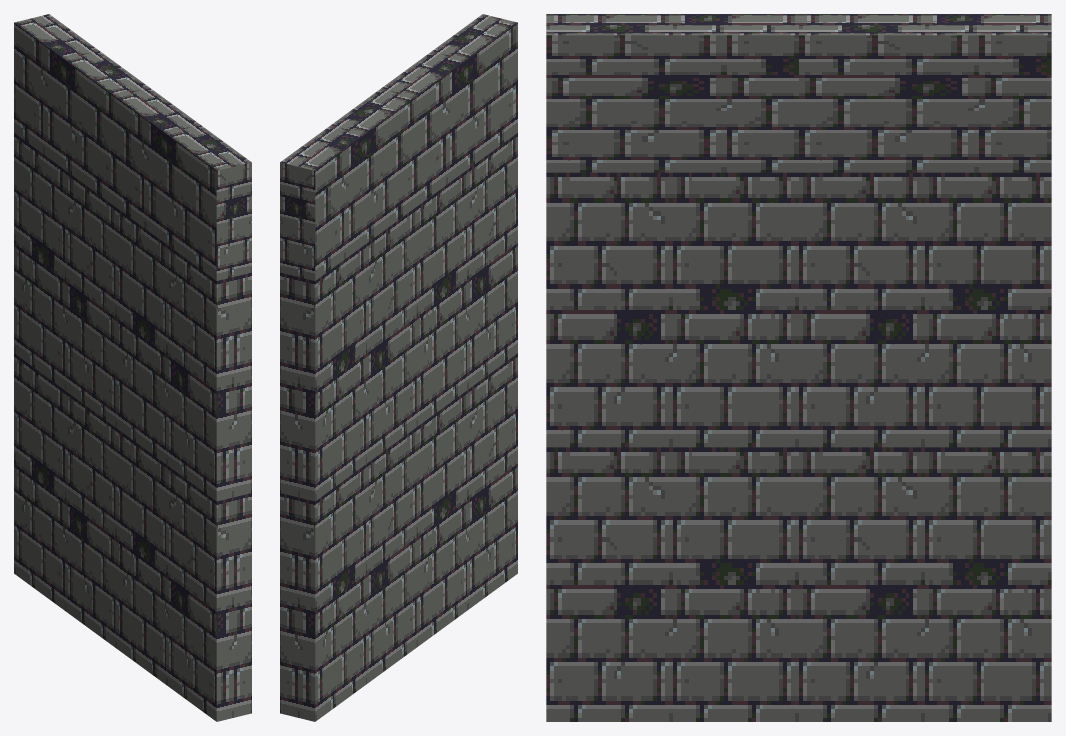
The model's file is pared_compuerta.glb.
The picture shows the model from 3 angles, left to right: view 1: azimuth 30°, elevation 25°; view 2: azimuth 150°, elevation 25°; view 3: azimuth 270°, elevation 25°; orthographic projection. The views are drawn at different scales.
Parts seen in each view (by area): view 1: wall-col.001; view 2: wall-col.001; view 3: wall-col.001.
Boxes of the visible parts, x1,y1,x2,y2 form: wall-col.001: (14,14,251,721); wall-col.001: (280,14,517,721); wall-col.001: (546,14,1051,721).
Bounding box in the file's own units: 0.2 × 3 × 2.
Materials: 1 (1 with a texture image).
